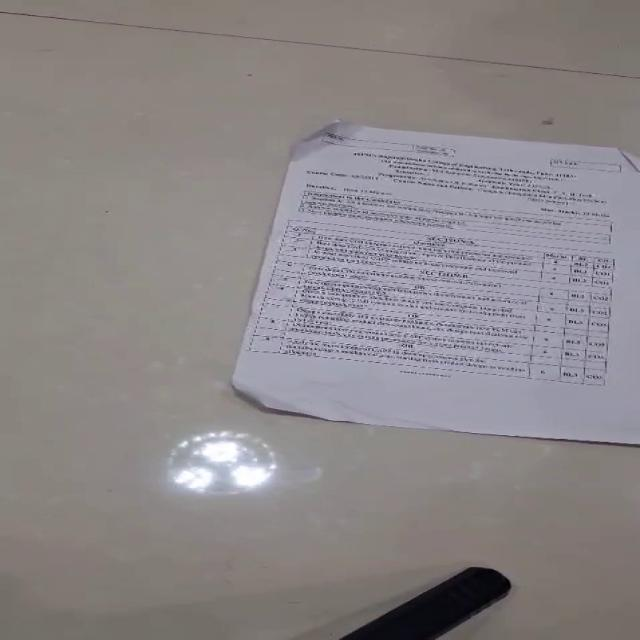paper: (229, 119, 639, 446)
